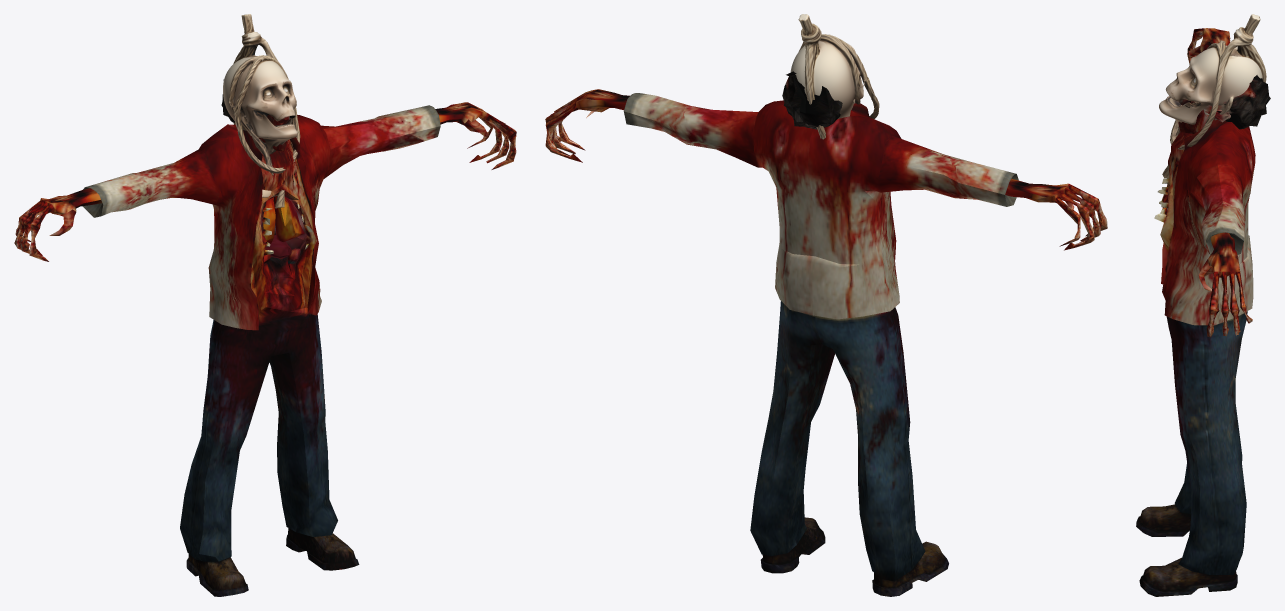
The model's file is kim.glb.
The picture shows the model from 3 angles, left to right: view 1: azimuth 30°, elevation 25°; view 2: azimuth 150°, elevation 25°; view 3: azimuth 270°, elevation 25°; orthographic projection. The views are drawn at different scales.
Visible parts, largest first — view 1: Object_2.001; view 2: Object_2.001; view 3: Object_2.001.
Part boxes in pixels (bbox=[...]): Object_2.001: bbox=[14, 14, 516, 596]; Object_2.001: bbox=[545, 14, 1107, 596]; Object_2.001: bbox=[1136, 14, 1270, 596].
Bounding box in the file's own units: 2.5 × 2.54 × 0.565.
Materials: 2 (2 with a texture image).
